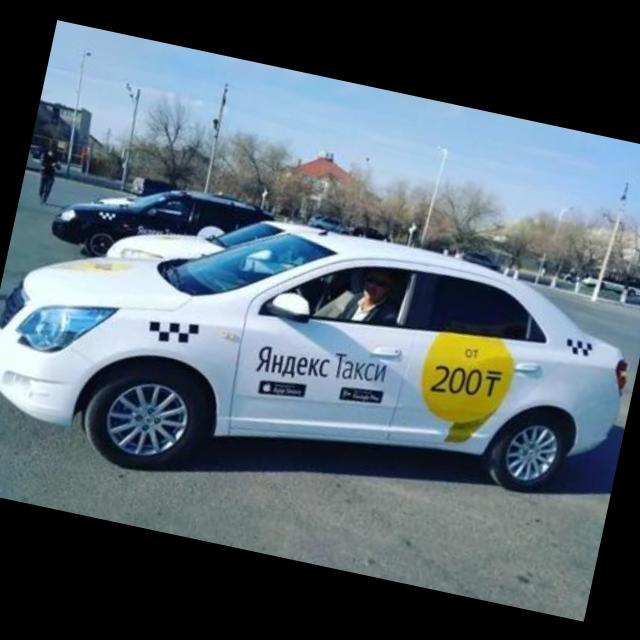taxi: (1, 160, 640, 564), (40, 158, 284, 287)
